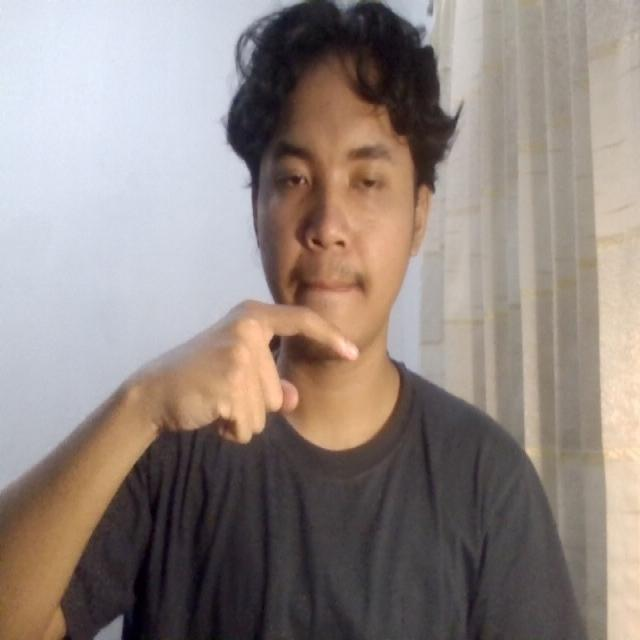N: (169, 278, 383, 466)
